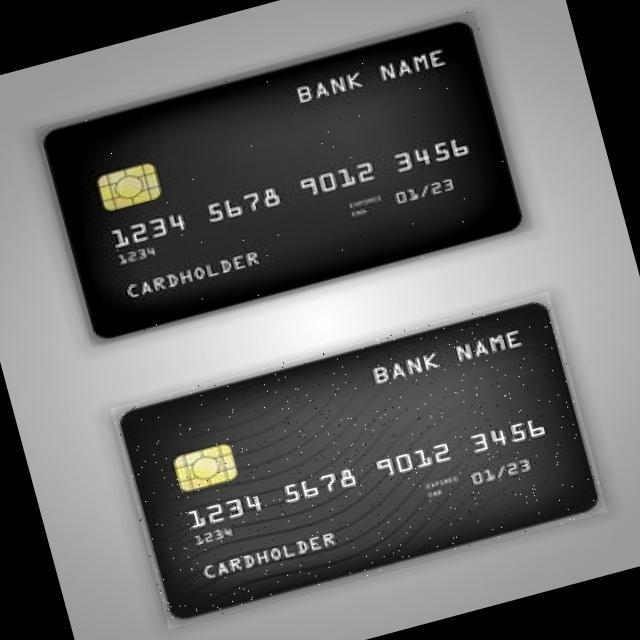payment_card: (110, 291, 606, 621), (40, 20, 525, 339)
